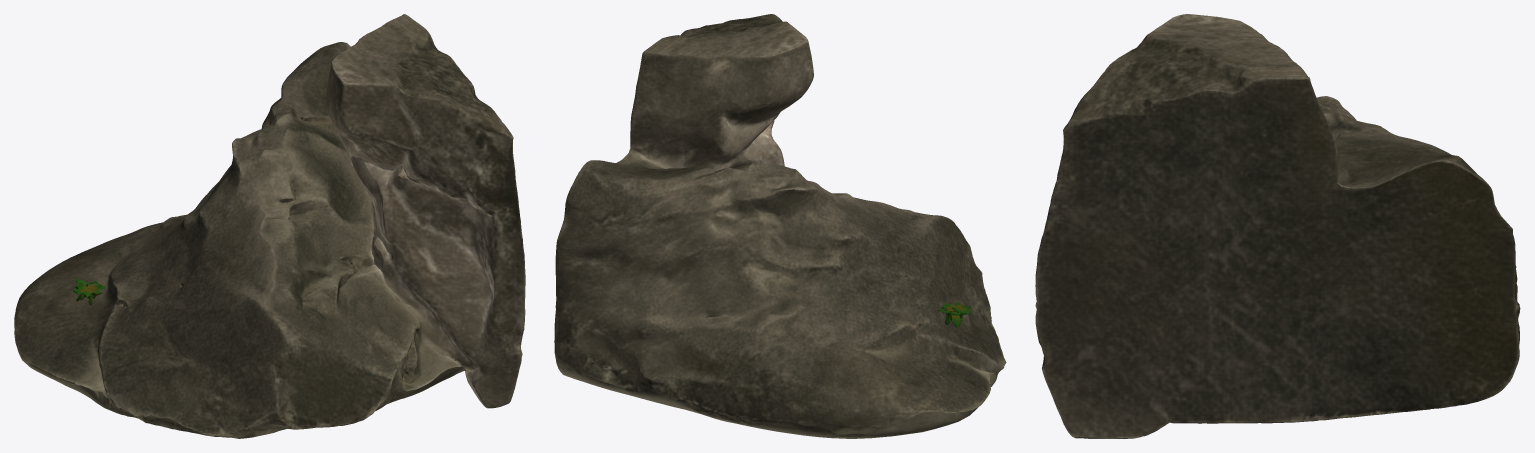
The model's file is r1-task-5958654-original.glb.
3 renders of one model, left to right at view 1: azimuth 30°, elevation 25°; view 2: azimuth 150°, elevation 25°; view 3: azimuth 270°, elevation 25°, orthographic. The views are drawn at different scales.
Visible parts, largest first — view 1: world; view 2: world; view 3: world.
Part boxes in pixels (x1=…): world: x1=14, y1=14, x2=525, y2=438; world: x1=554, y1=14, x2=1006, y2=438; world: x1=1035, y1=14, x2=1520, y2=438.
Bounding box in the file's own units: 0.35 × 0.2888 × 0.3518.
Materials: 1 (1 with a texture image).
